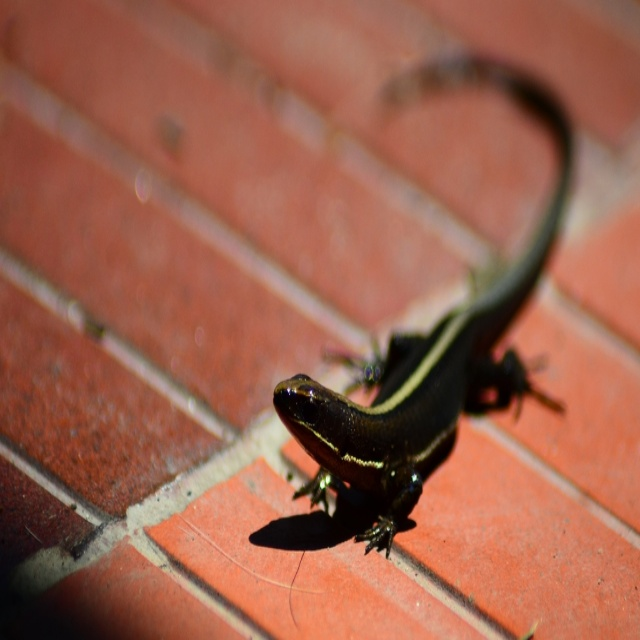Lizard: (257, 113, 592, 572)
